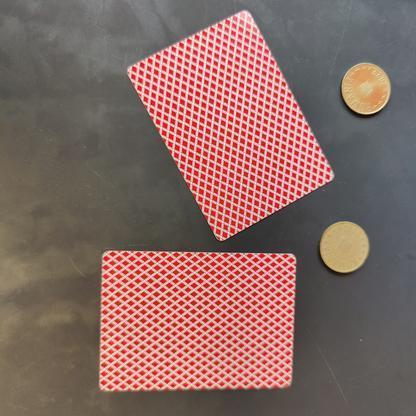card: (114, 7, 338, 244), (84, 242, 305, 400)
